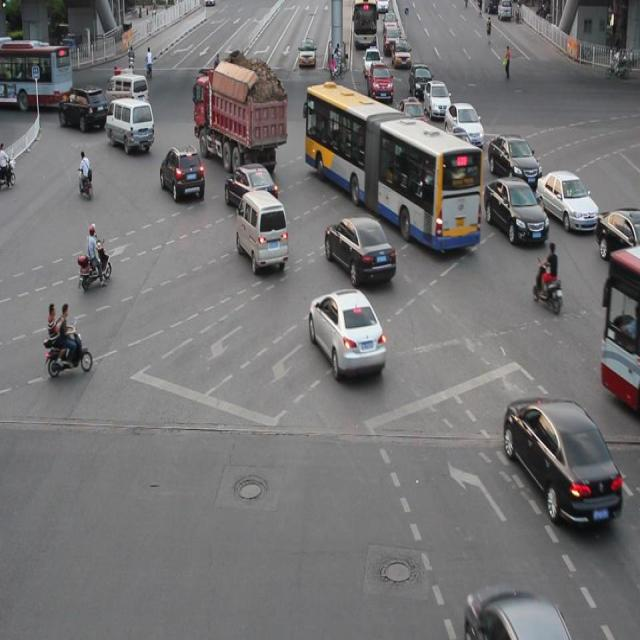bus: (192, 68, 286, 170)
car: (502, 396, 622, 524), (308, 286, 385, 379), (324, 214, 396, 284), (485, 176, 548, 246), (535, 168, 598, 234), (487, 134, 542, 190), (225, 162, 278, 215), (594, 205, 640, 264), (160, 145, 204, 201), (439, 127, 482, 180), (443, 101, 483, 148), (396, 96, 432, 140)
truck: (235, 188, 288, 270), (106, 97, 155, 154)
van: (304, 82, 480, 248), (600, 248, 640, 414)
